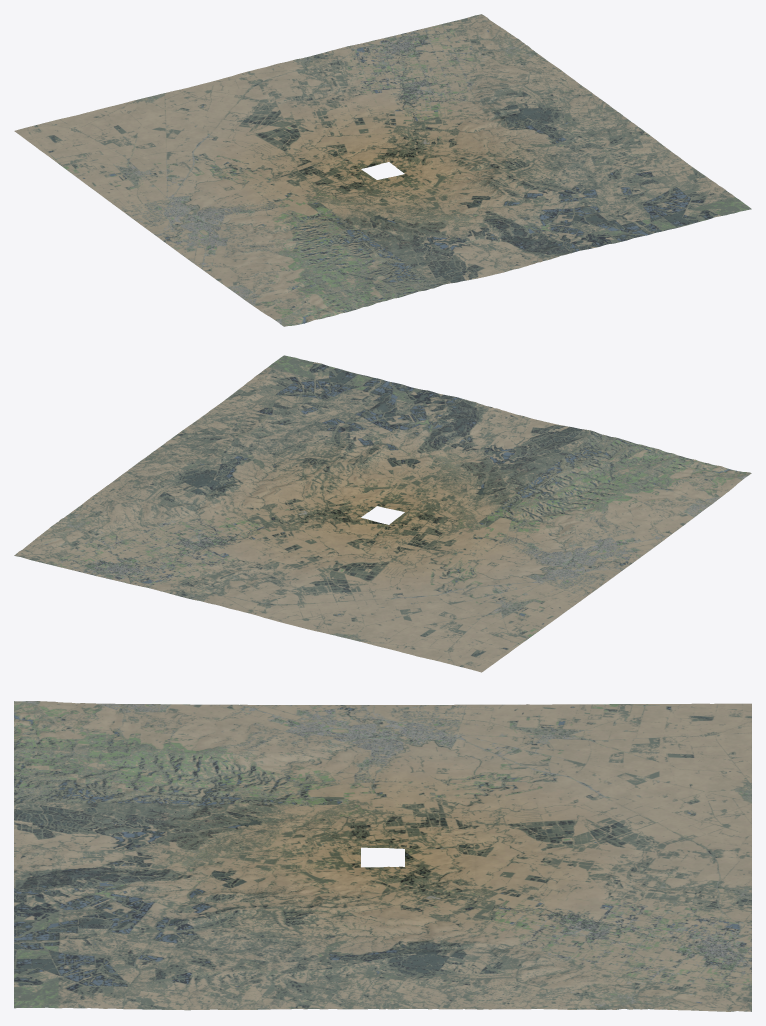
The model's file is barossa_far.glb.
3 renders of one model, top to bottom at view 1: azimuth 30°, elevation 25°; view 2: azimuth 150°, elevation 25°; view 3: azimuth 270°, elevation 25°, orthographic. The views are drawn at different scales.
Visible parts, largest first — view 1: far; view 2: far; view 3: far.
Boxes of the visible parts, x1,y1,x2,y2 form: far: (14, 14, 751, 326); far: (14, 355, 751, 672); far: (14, 701, 751, 1011).
Bounding box in the file's own units: 32000 × 723 × 32000.
Materials: 1 (1 with a texture image).
